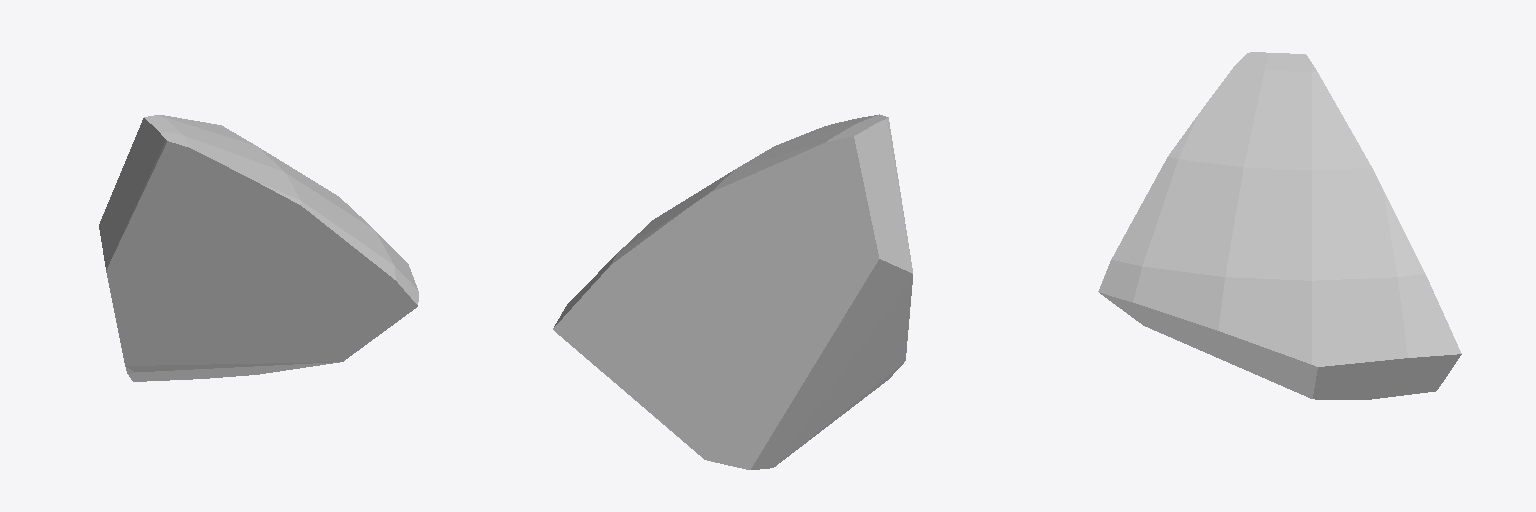
The model's file is Sphere_Cell_Fracture36.obj.
3 renders of one model, left to right at view 1: azimuth 30°, elevation 25°; view 2: azimuth 150°, elevation 25°; view 3: azimuth 270°, elevation 25°, orthographic.
Bounding box in the file's own units: 0.5455 × 0.5417 × 0.5819.